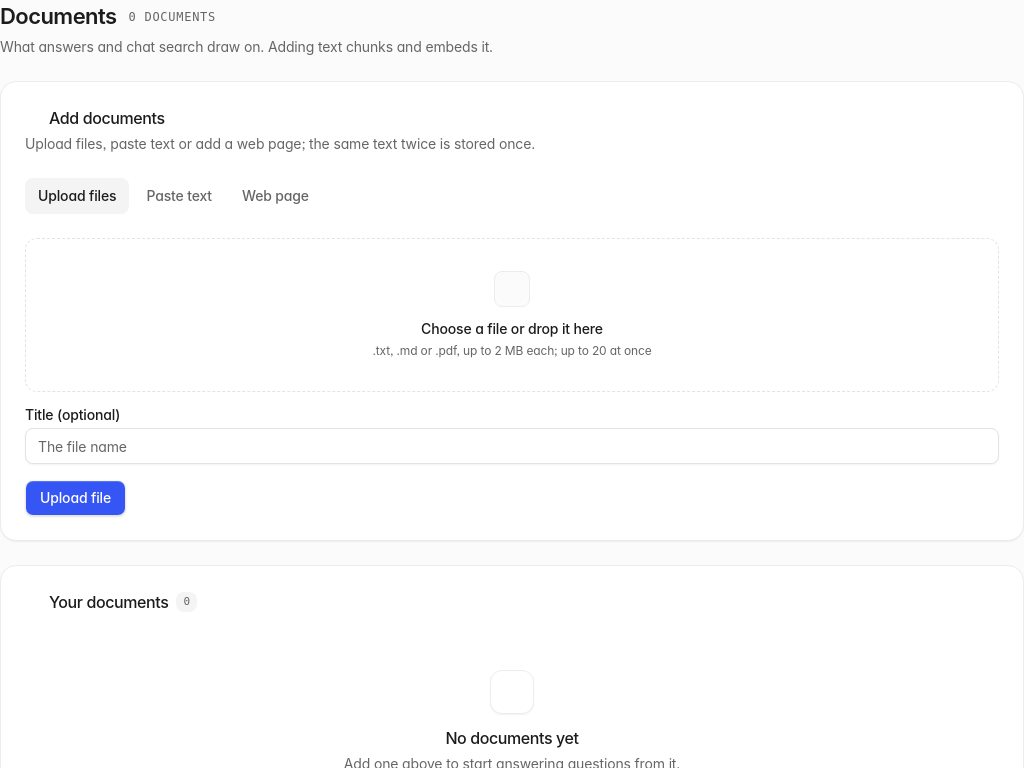
Test: DocumentsContainer (mocked API) › adding a document posts it and refreshes the list
Expected: the text "No documents yet" is shown, [445,726,579,750]
Click the tab "Paste text" at [179, 196], box [133,178,225,214]
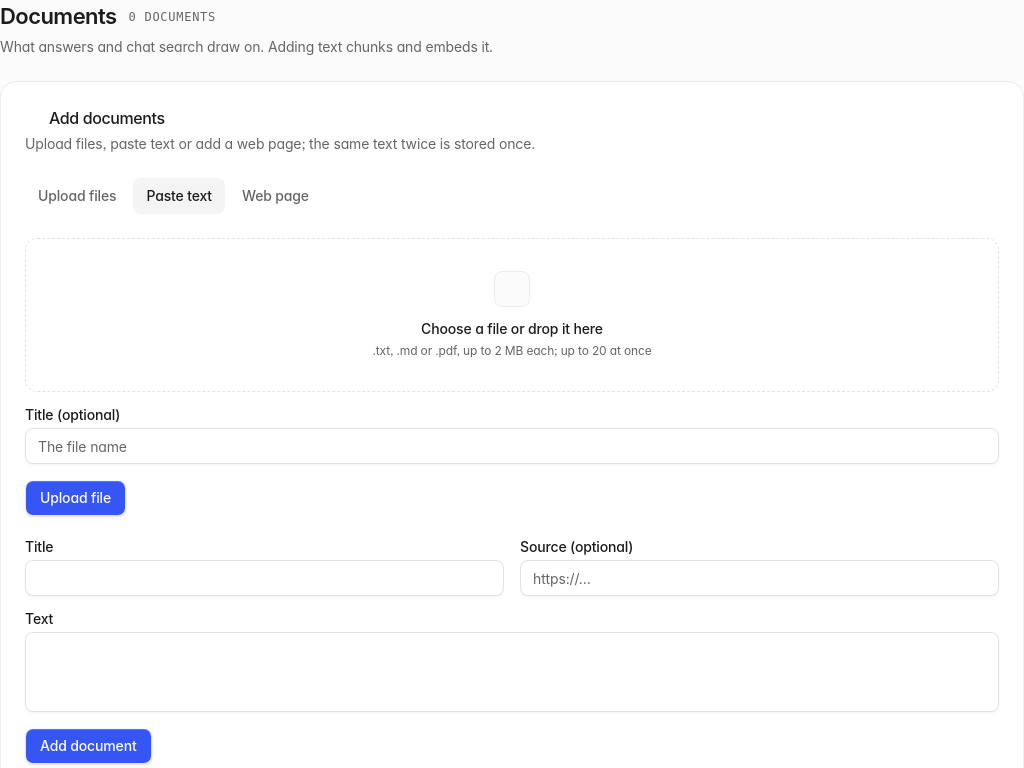
Type "Refund policy" into the field labelled "Title" at [264, 578], box [25,560,504,596]
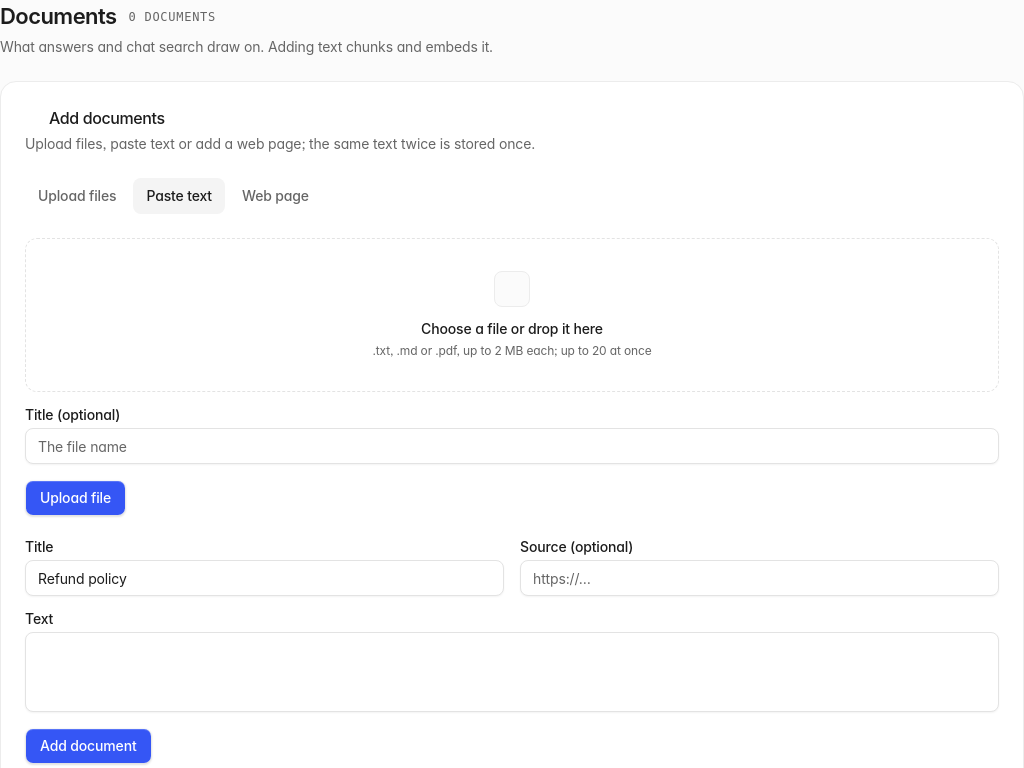
Type "Within 30 days." into the text box labelled "Text" at [512, 672], box [25,632,999,712]
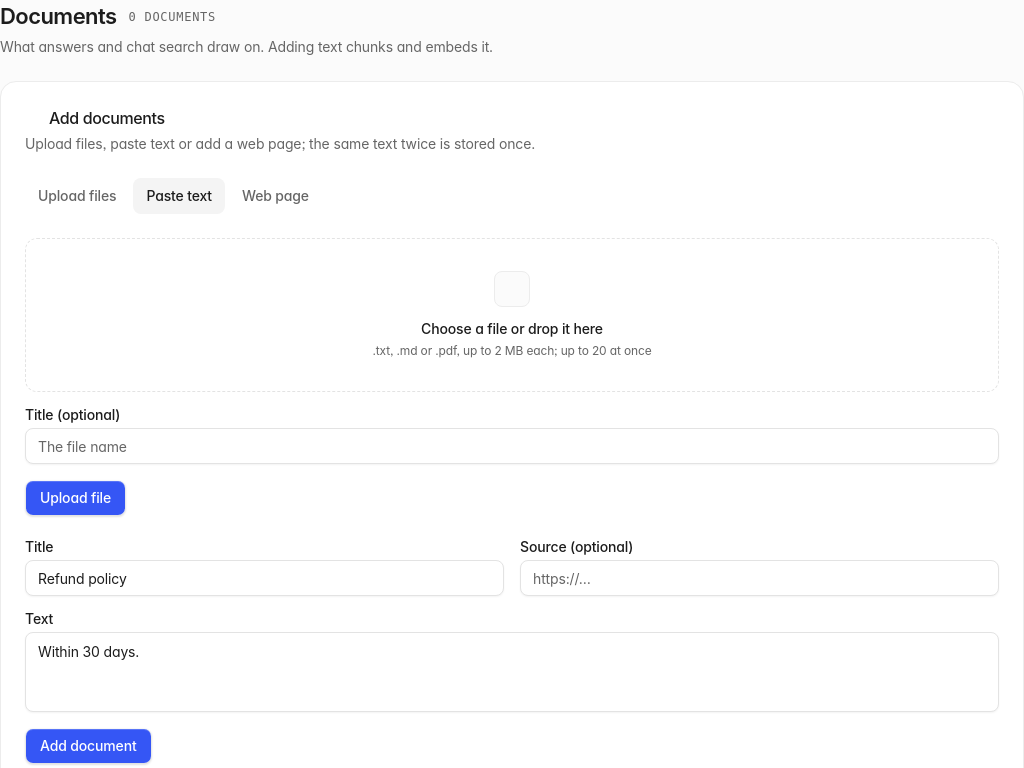
Click the button "Add document" at [88, 746], box [25,728,152,764]
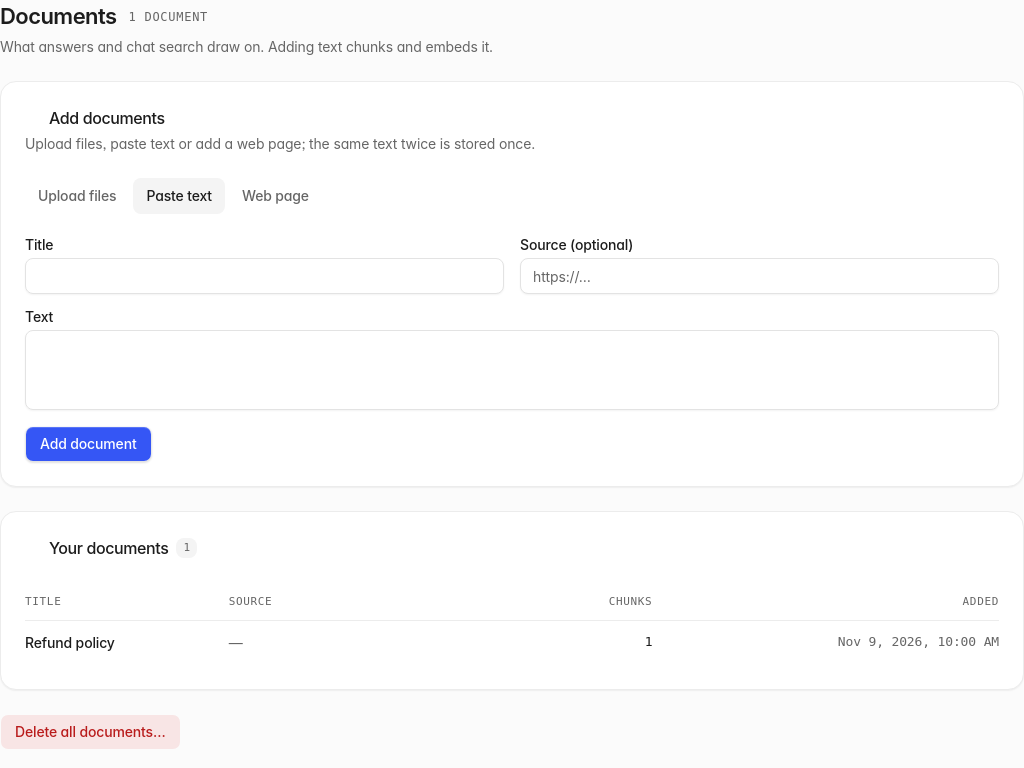
Now the cell "Refund policy" is shown, box [25,620,221,664]
